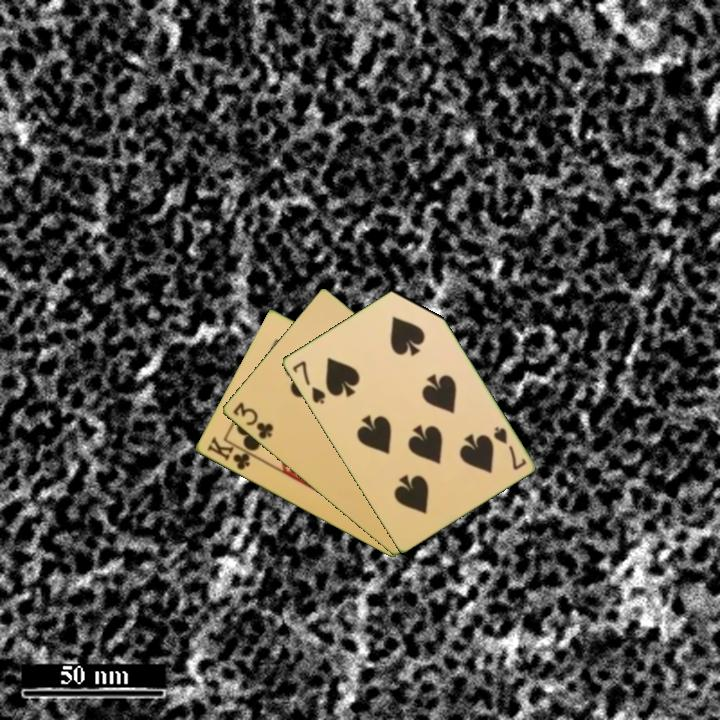3c: (229, 398, 276, 442)
7s: (489, 422, 529, 473), (289, 357, 328, 407)
Kc: (203, 433, 259, 473)
